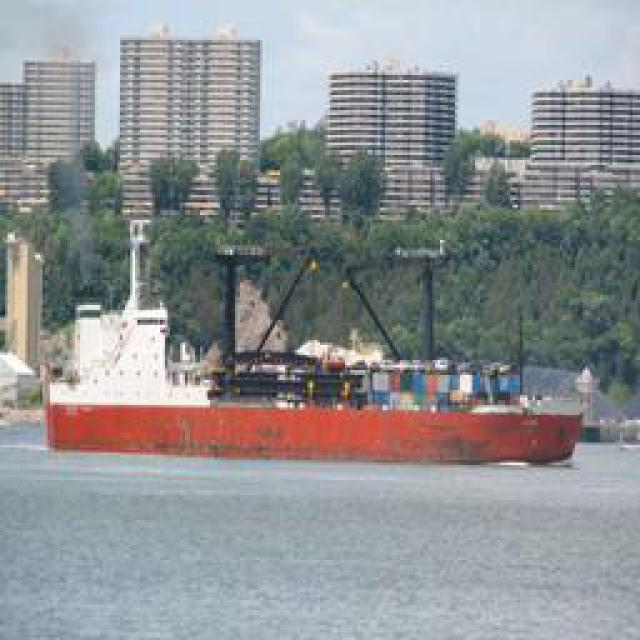Ship: (41, 365, 579, 468)
